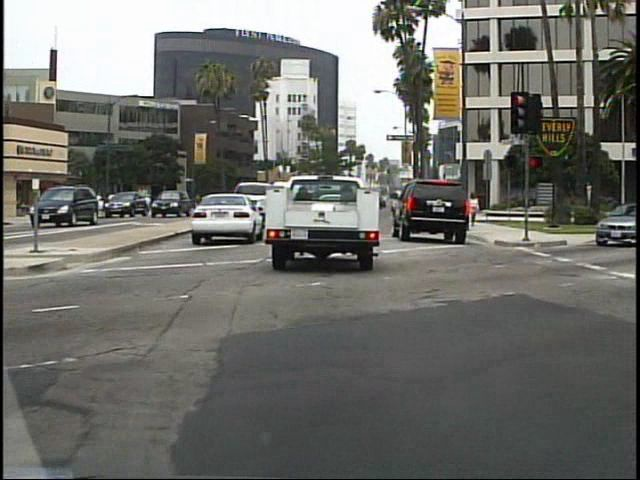person: (465, 188, 483, 230), (89, 189, 108, 222)
